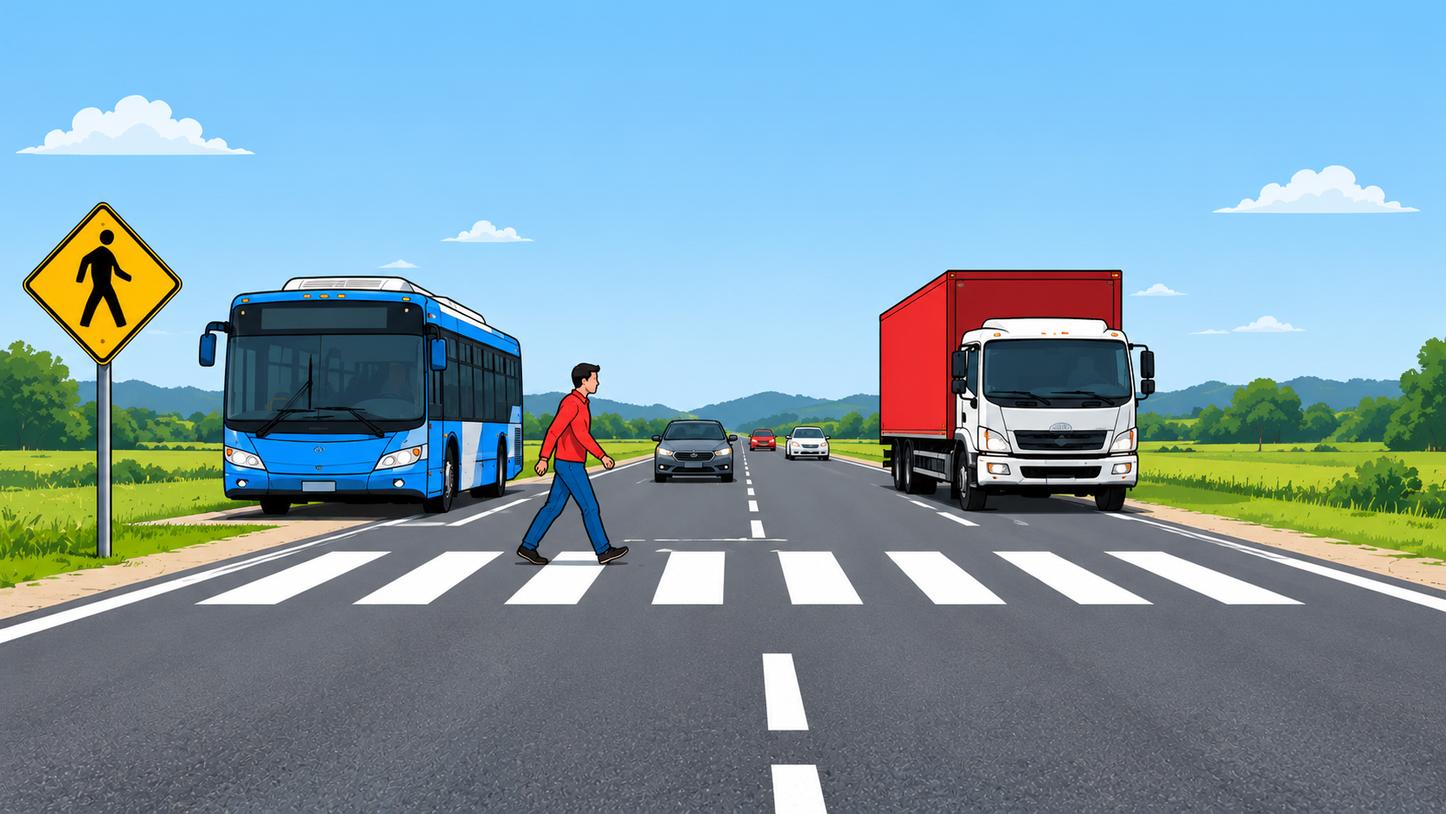bus: (197, 275, 527, 516)
car: (653, 419, 736, 484), (789, 426, 834, 462), (749, 431, 777, 458)
crossing_warning_sign: (23, 203, 181, 365)
person: (515, 361, 633, 564)
truck: (880, 269, 1155, 514)
zebra_crossing: (0, 534, 1446, 609)
